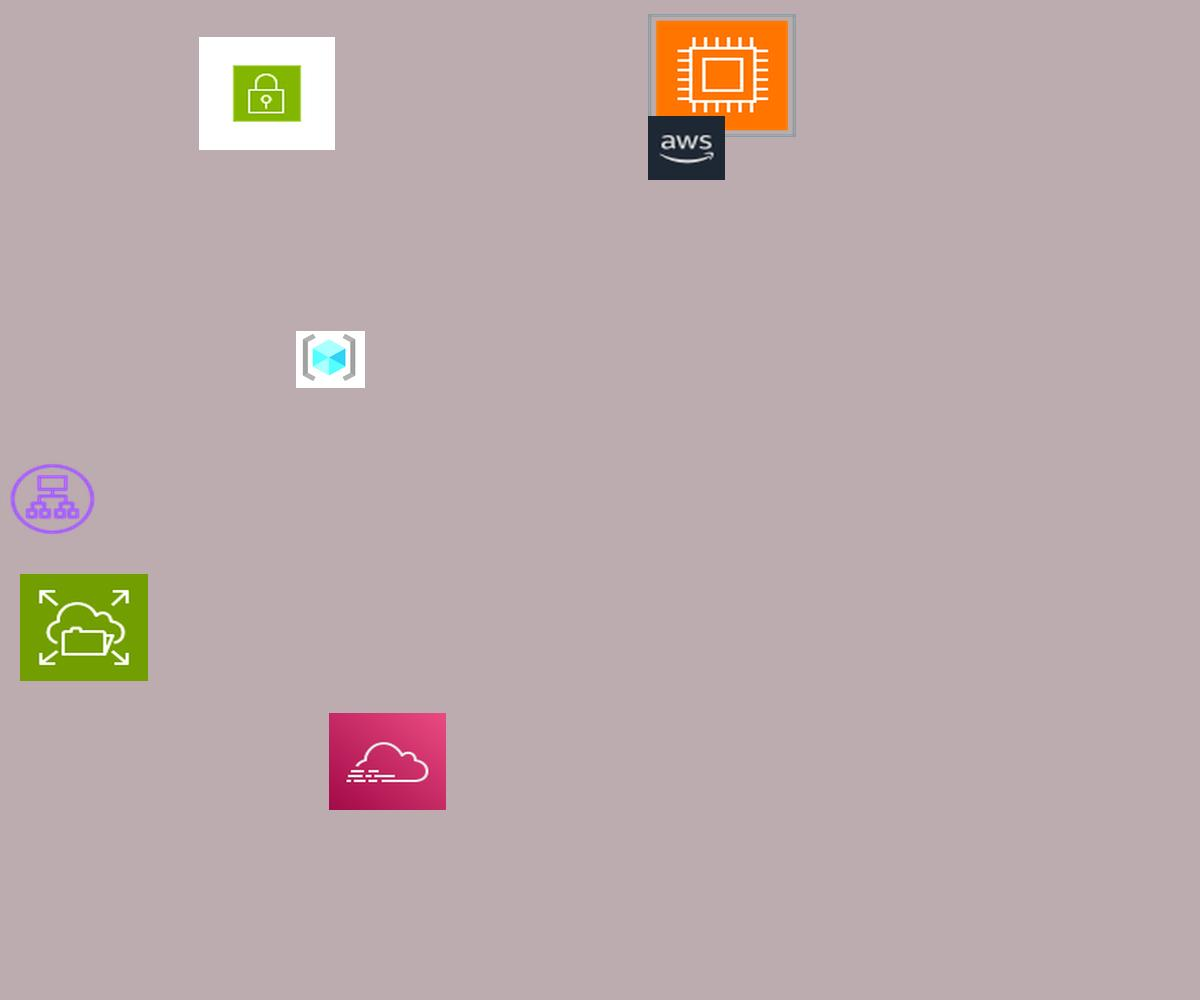AWS-Category_Compute: (648, 14, 796, 137)
AWS-Cloud-logo: (648, 116, 725, 180)
AWS-CloudTrail: (329, 713, 446, 810)
AWS-EFS: (20, 574, 148, 681)
AWS-Public-subnet: (199, 37, 335, 150)
AWS-Res_Elastic-Load-Balancing_Application-Load-Balancer: (7, 461, 98, 537)
Azure_resource_group: (296, 331, 365, 388)
